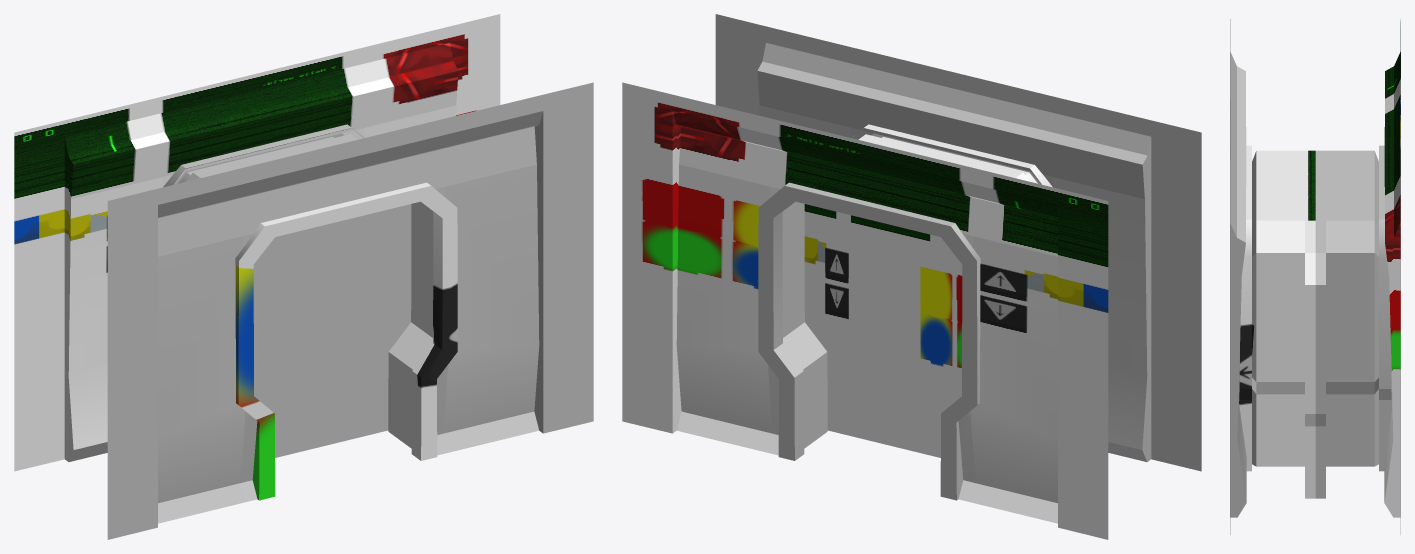
Rendered from Door.fbx.
3 renders of one model, left to right at view 1: azimuth 30°, elevation 25°; view 2: azimuth 150°, elevation 25°; view 3: azimuth 270°, elevation 25°, orthographic. The views are drawn at different scales.
Parts seen in each view (by area): view 1: polySurface1, polySurface5, Door, polySurface6, polySurface10; view 2: polySurface5, polySurface1, Door, polySurface10, polySurface6; view 3: polySurface6, polySurface10, polySurface1, polySurface5.
Boxes of the visible parts, x1,y1,x2,y2 form: polySurface1: (107,82,593,539); polySurface5: (14,14,500,471); Door: (253,204,411,457); polySurface6: (235,182,457,500); polySurface10: (163,124,363,187); polySurface5: (622,82,1108,539); polySurface1: (715,14,1201,471); Door: (804,204,962,457); polySurface10: (758,182,980,500); polySurface6: (852,124,1052,187); polySurface6: (1239,145,1315,498); polySurface10: (1315,145,1391,498); polySurface1: (1230,19,1246,534); polySurface5: (1384,19,1400,534).
Bounding box in the file's own units: 600 × 400 × 200.
